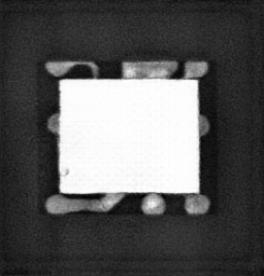DIE_INK: (63, 166, 70, 176)
